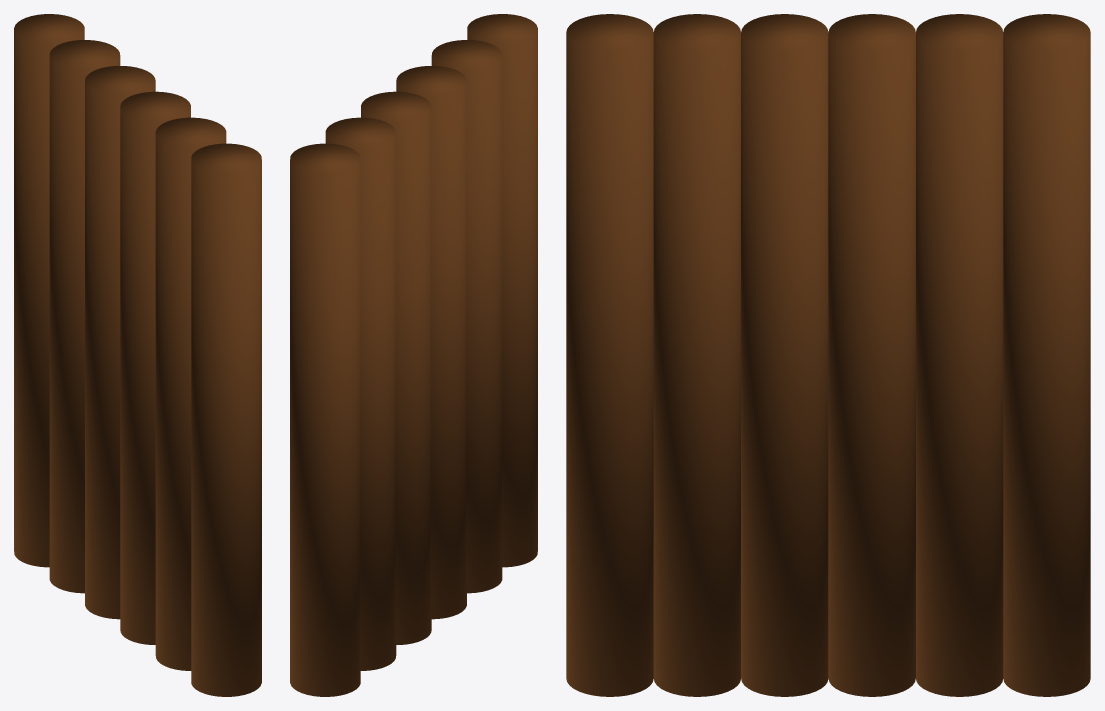
Rendered from BackgroundNowindow.fbx.
3 renders of one model, left to right at view 1: azimuth 30°, elevation 25°; view 2: azimuth 150°, elevation 25°; view 3: azimuth 270°, elevation 25°, orthographic. The views are drawn at different scales.
Parts seen in each view (by area): view 1: Cube; view 2: Cube; view 3: Cube.
Part boxes in pixels (x1=…): Cube: x1=14, y1=14, x2=261, y2=696; Cube: x1=290, y1=14, x2=537, y2=696; Cube: x1=566, y1=14, x2=1090, y2=696.
Bounding box in the file's own units: 2 × 16.31 × 12.
